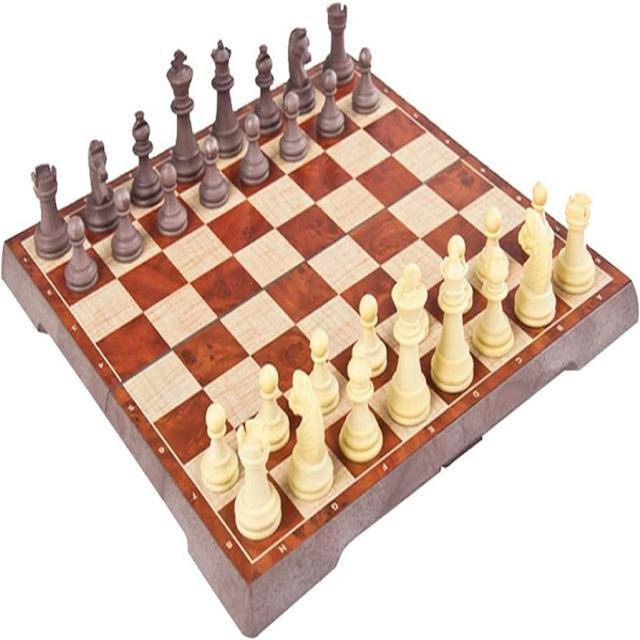chess-table-corners: (240, 543, 264, 571), (598, 267, 616, 290), (15, 234, 32, 253)
